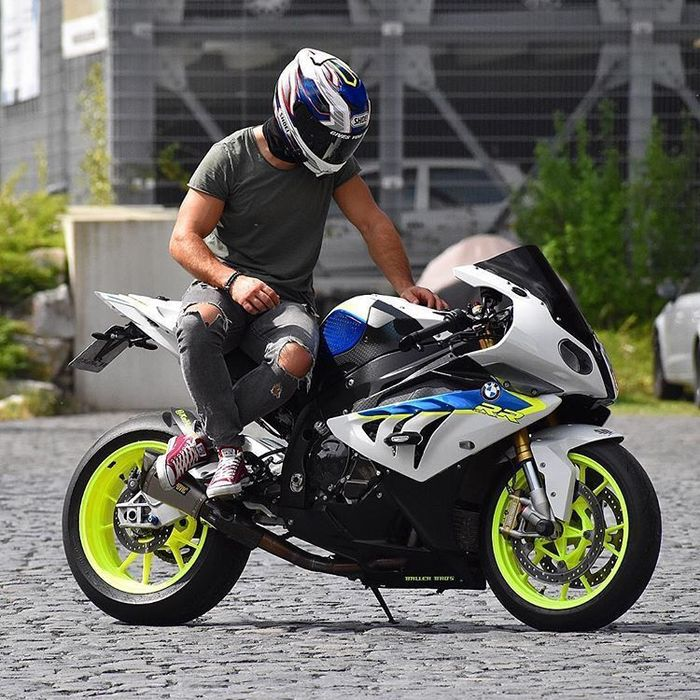h: (267, 42, 379, 193)
